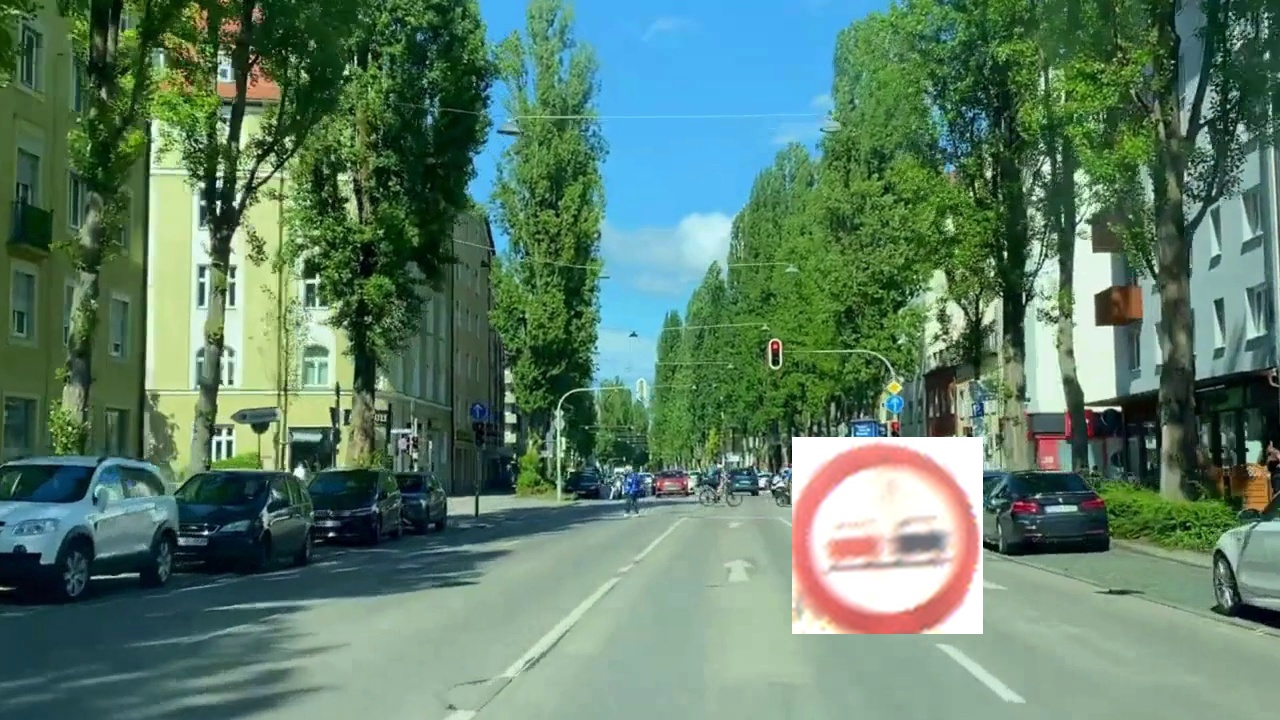No passing: (792, 437, 983, 634)
